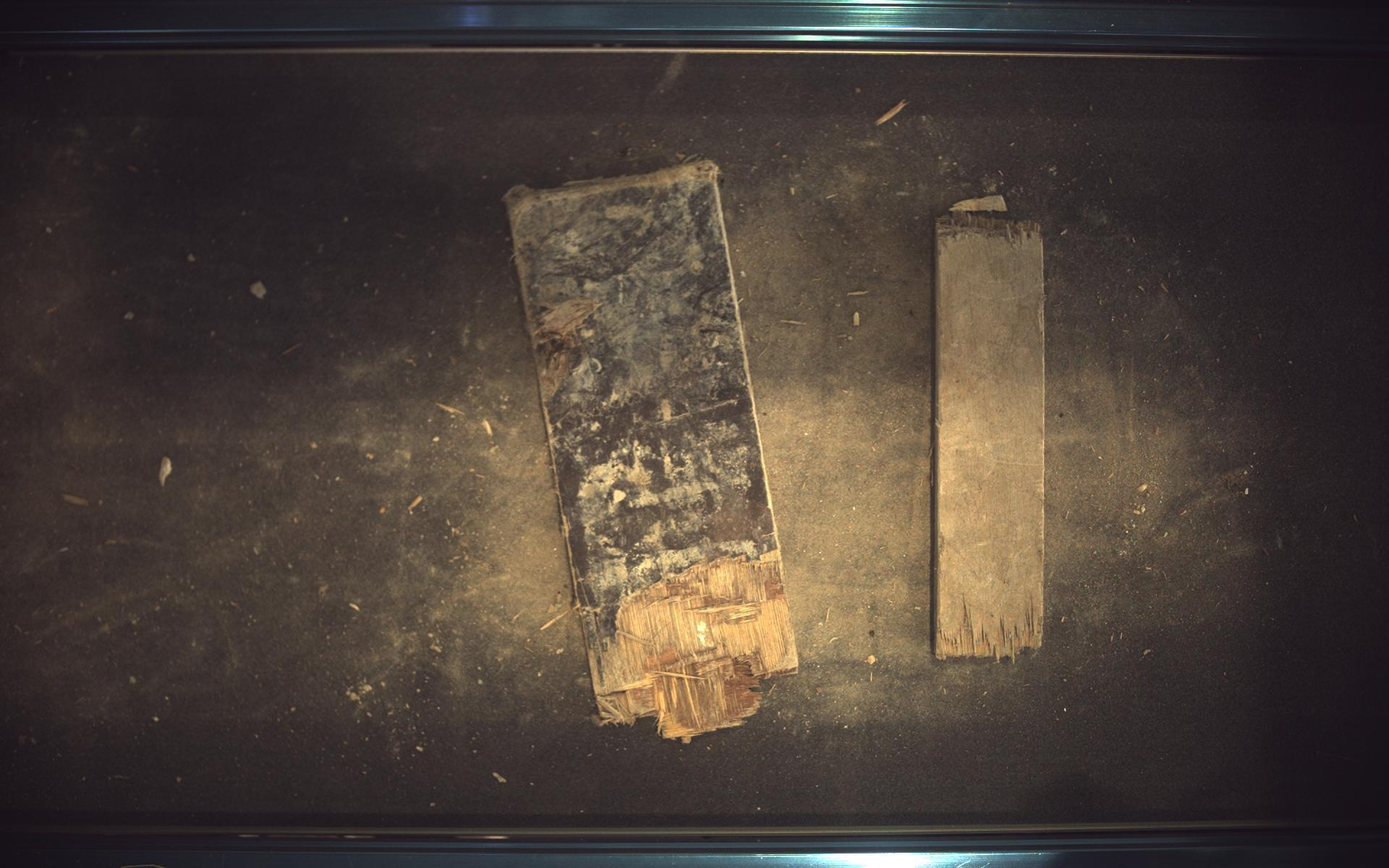wood: (506, 160, 799, 743), (935, 211, 1048, 660)
